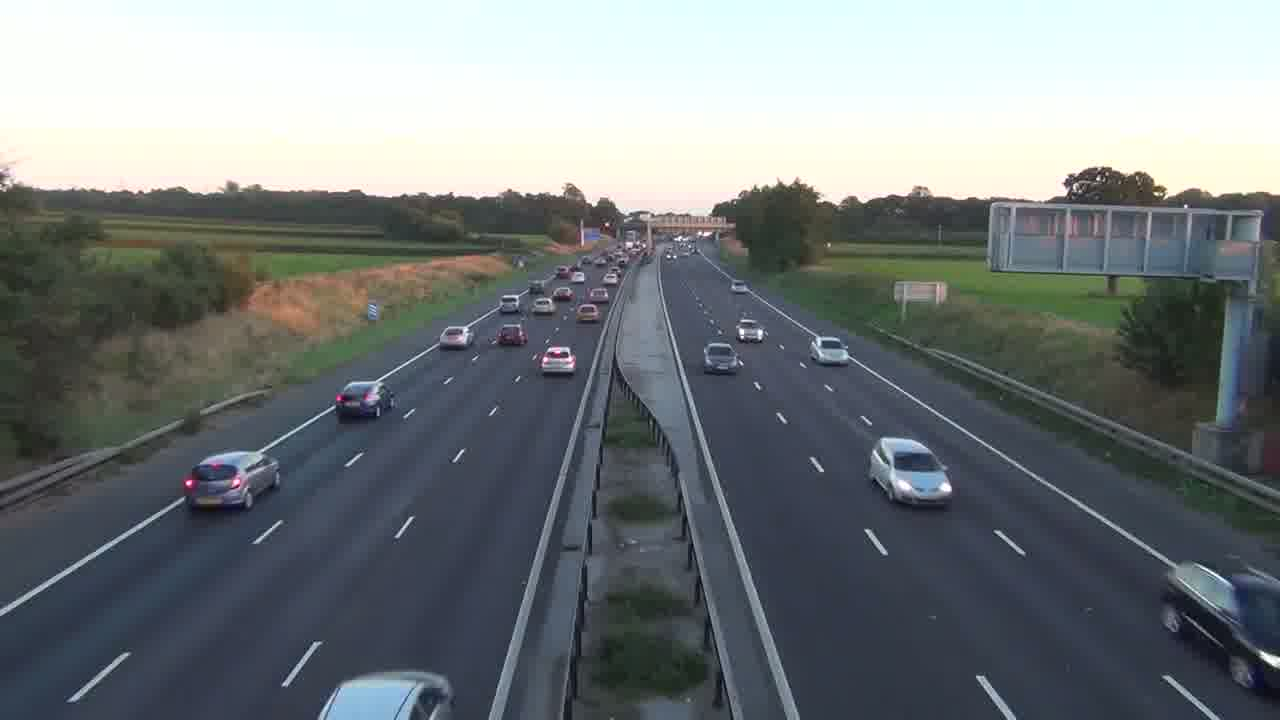car: (317, 669, 455, 719), (867, 435, 954, 508), (182, 449, 282, 511), (334, 380, 386, 420), (702, 342, 744, 374), (535, 345, 577, 376), (810, 335, 851, 365), (495, 323, 527, 347), (439, 325, 469, 350), (736, 320, 767, 343), (575, 301, 600, 323)
truck: (1158, 559, 1280, 694)
